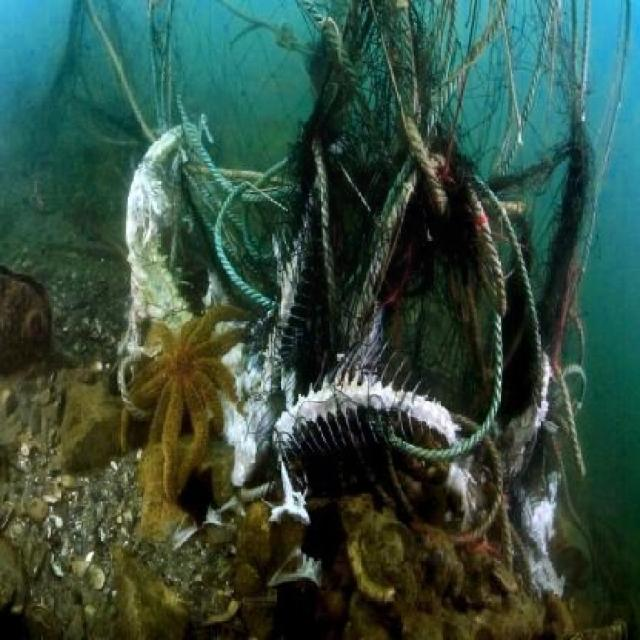net: (256, 0, 596, 415)
